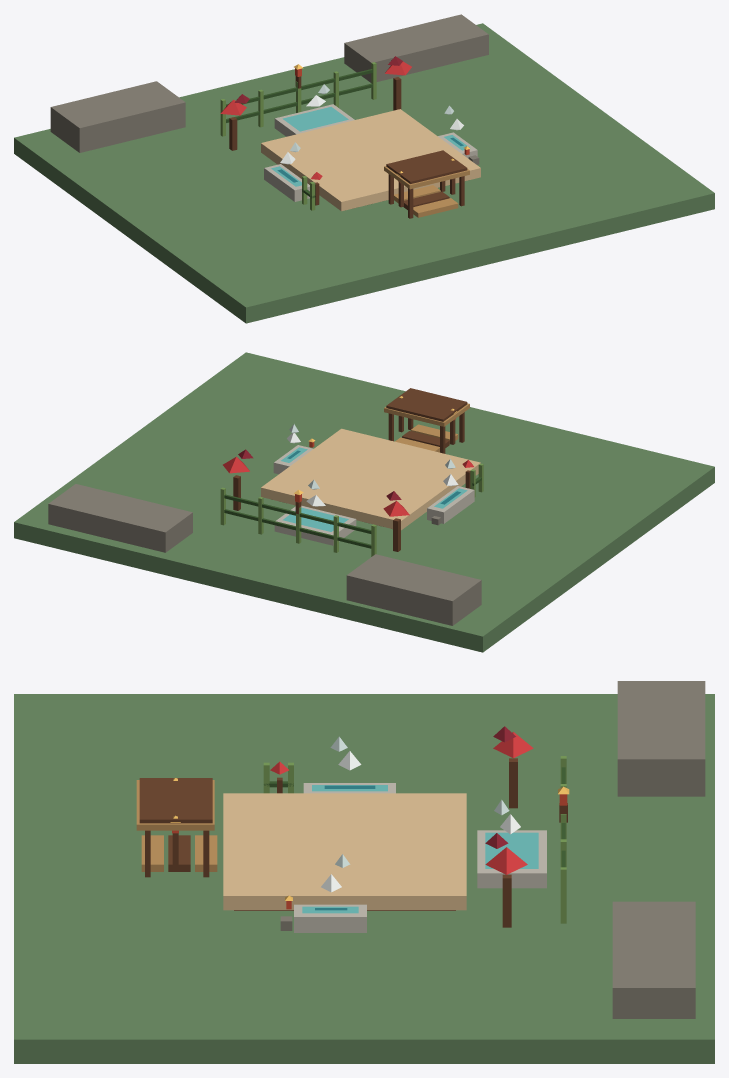
File: env_hotspring.glb
3 views of the same model, one above another, from view 1: azimuth 30°, elevation 25°; view 2: azimuth 150°, elevation 25°; view 3: azimuth 270°, elevation 25° (orthographic). The views are drawn at different scales.
Parts seen in each view (by area): view 1: HS_valley, HS_platform, HS_corridor, HS_pools, HS_fence, HS_maple, HS_steam; view 2: HS_valley, HS_platform, HS_corridor, HS_pools, HS_fence, HS_maple, HS_steam; view 3: HS_valley, HS_platform, HS_corridor, HS_pools, HS_maple, HS_fence, HS_steam, HS_lanterns.
Part boxes in pixels (x1=…): HS_valley: x1=14, y1=14, x2=714, y2=323; HS_platform: x1=261, y1=109, x2=480, y2=211; HS_corridor: x1=384, y1=150, x2=469, y2=218; HS_pools: x1=264, y1=104, x2=479, y2=201; HS_fence: x1=220, y1=62, x2=376, y2=210; HS_maple: x1=220, y1=56, x2=411, y2=205; HS_steam: x1=280, y1=84, x2=463, y2=164; HS_valley: x1=14, y1=352, x2=714, y2=652; HS_platform: x1=261, y1=428, x2=480, y2=530; HS_corridor: x1=384, y1=388, x2=469, y2=453; HS_pools: x1=273, y1=445, x2=474, y2=545; HS_fence: x1=220, y1=463, x2=483, y2=556; HS_maple: x1=223, y1=449, x2=473, y2=551; HS_steam: x1=287, y1=424, x2=458, y2=506; HS_valley: x1=14, y1=681, x2=714, y2=1063; HS_platform: x1=223, y1=793, x2=466, y2=910; HS_corridor: x1=136, y1=778, x2=217, y2=877; HS_pools: x1=280, y1=783, x2=546, y2=932; HS_maple: x1=270, y1=726, x2=533, y2=927; HS_fence: x1=263, y1=756, x2=566, y2=923; HS_steam: x1=321, y1=736, x2=520, y2=892; HS_lanterns: x1=170, y1=778, x2=569, y2=909.
Bounding box in the file's own units: 16.8 × 2.57 × 14.4.
1 material, 1 textured.
